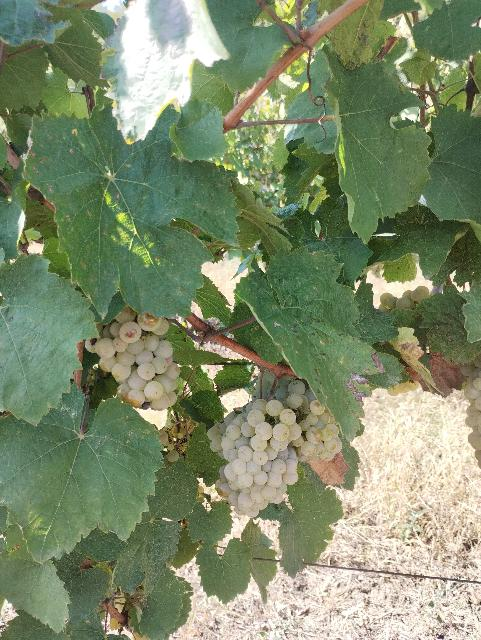grapes: (208, 398, 302, 518), (85, 306, 180, 411)
